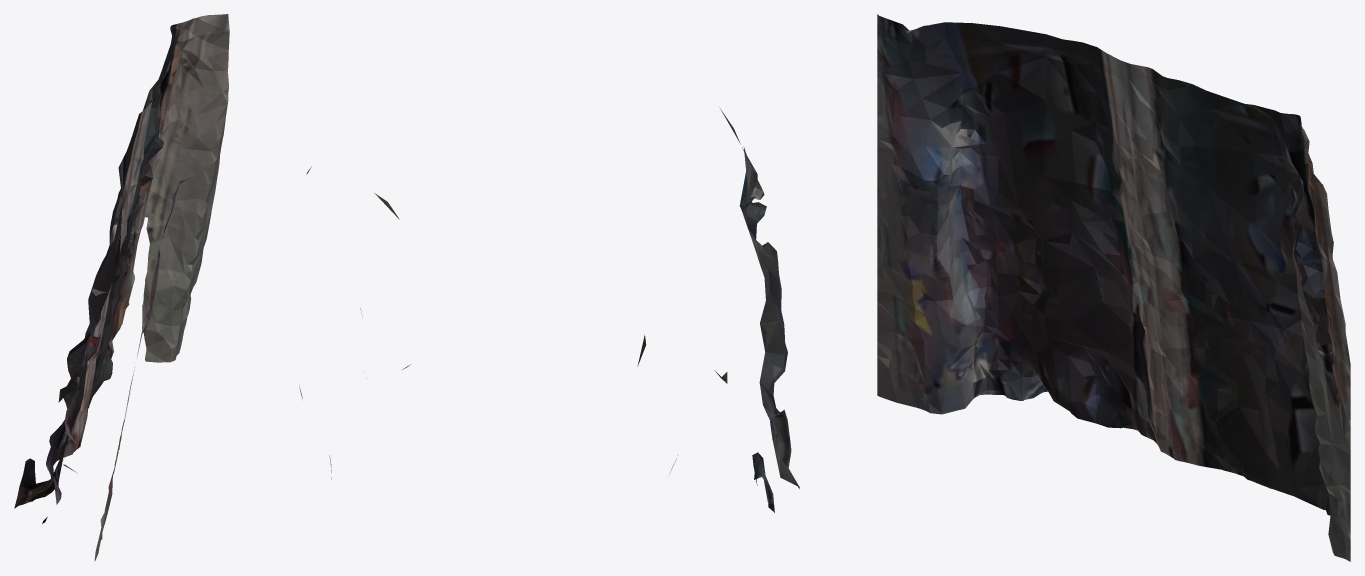
The picture shows the model from 3 angles, left to right: view 1: azimuth 30°, elevation 25°; view 2: azimuth 150°, elevation 25°; view 3: azimuth 270°, elevation 25°; orthographic projection. The views are drawn at different scales.
Size of the model in its own units: 0.78 by 0.8374 by 0.8373.
Materials: 4 (4 with a texture image).
